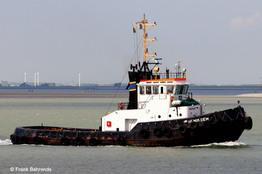otherboat: (9, 14, 252, 146)
